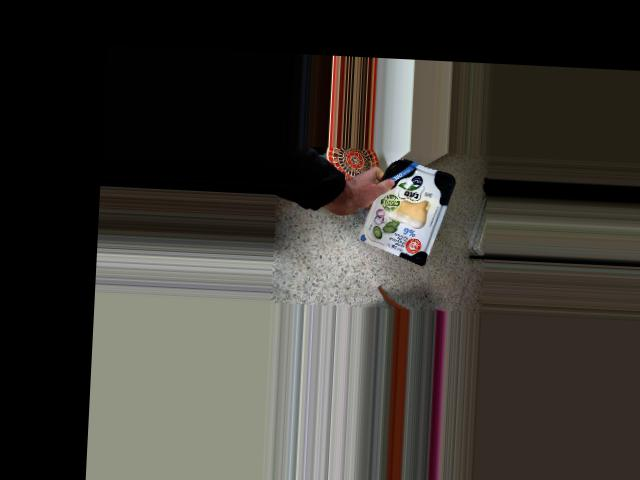cheese: (360, 156, 457, 267)
